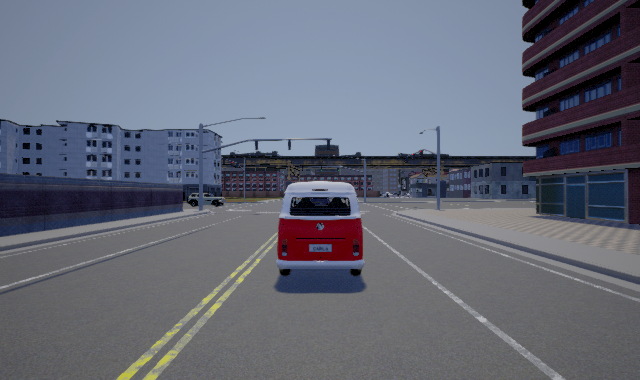vehicle: (276, 181, 365, 276), (186, 188, 227, 209)
